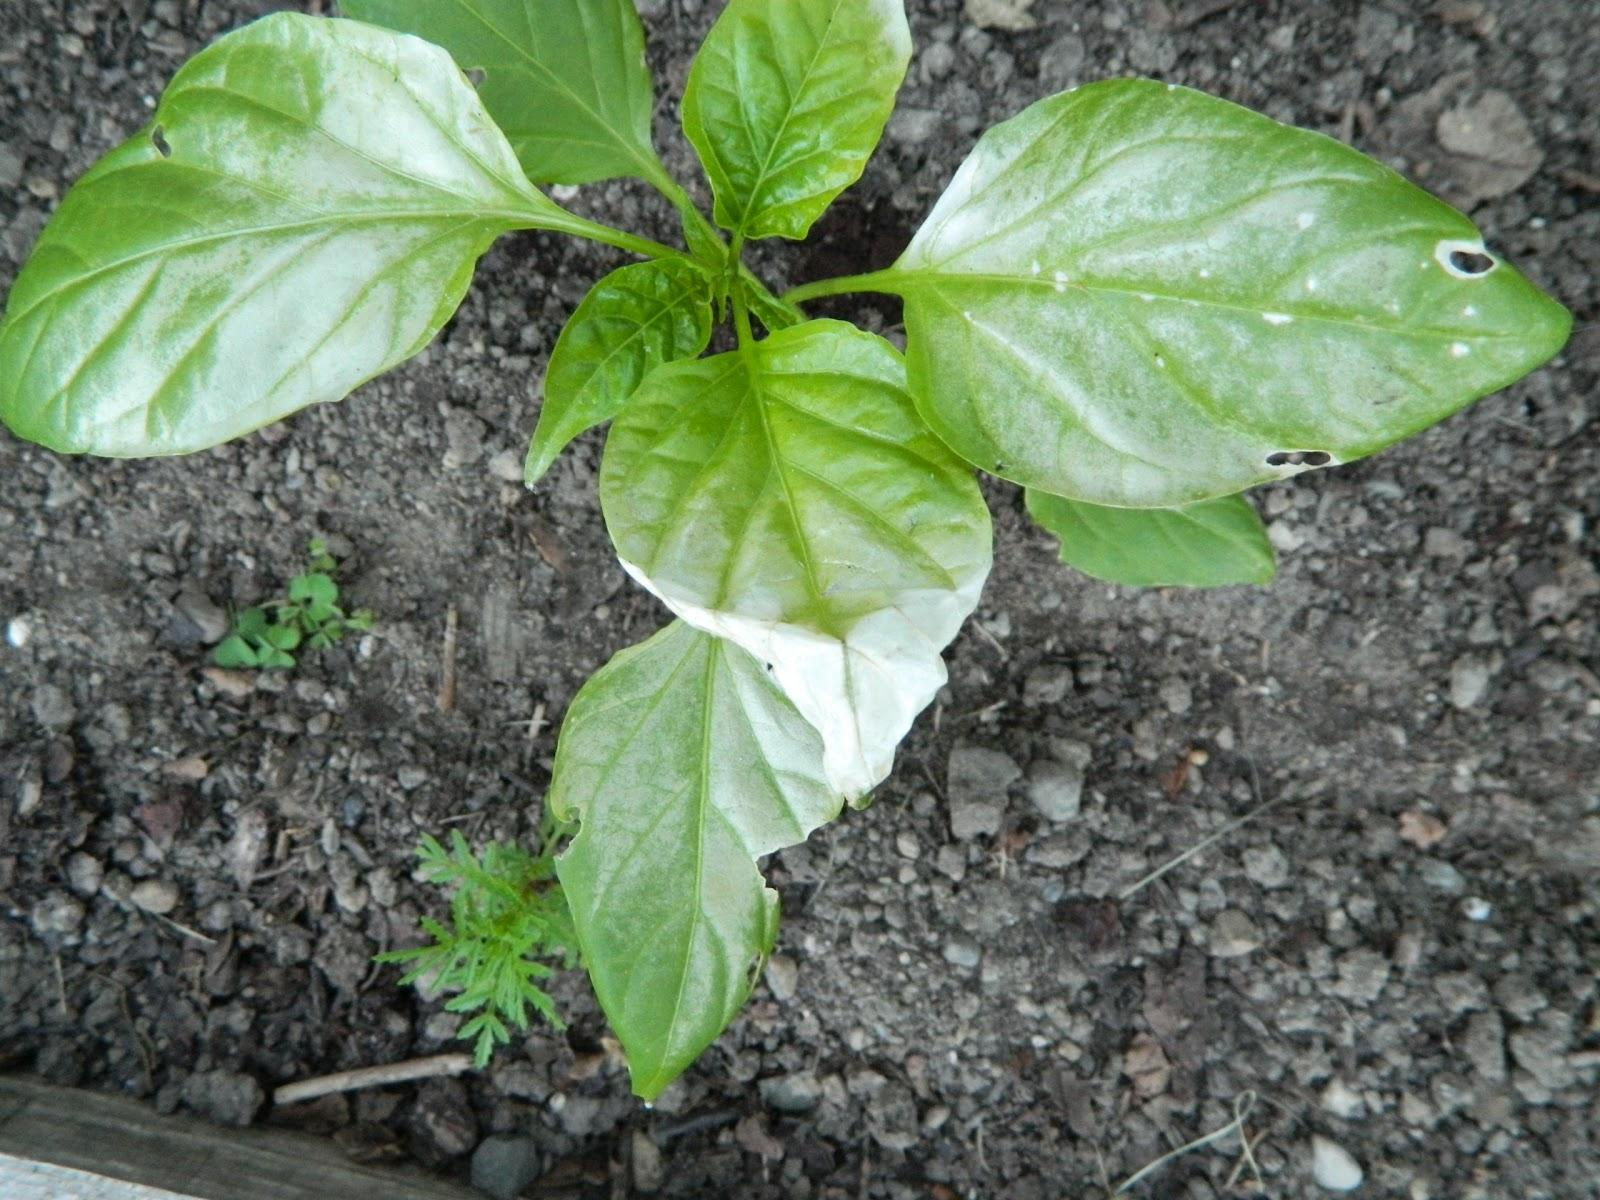Tomato leaf bacterial spot: (905, 58, 1575, 509), (1, 30, 522, 460), (585, 303, 989, 783)
